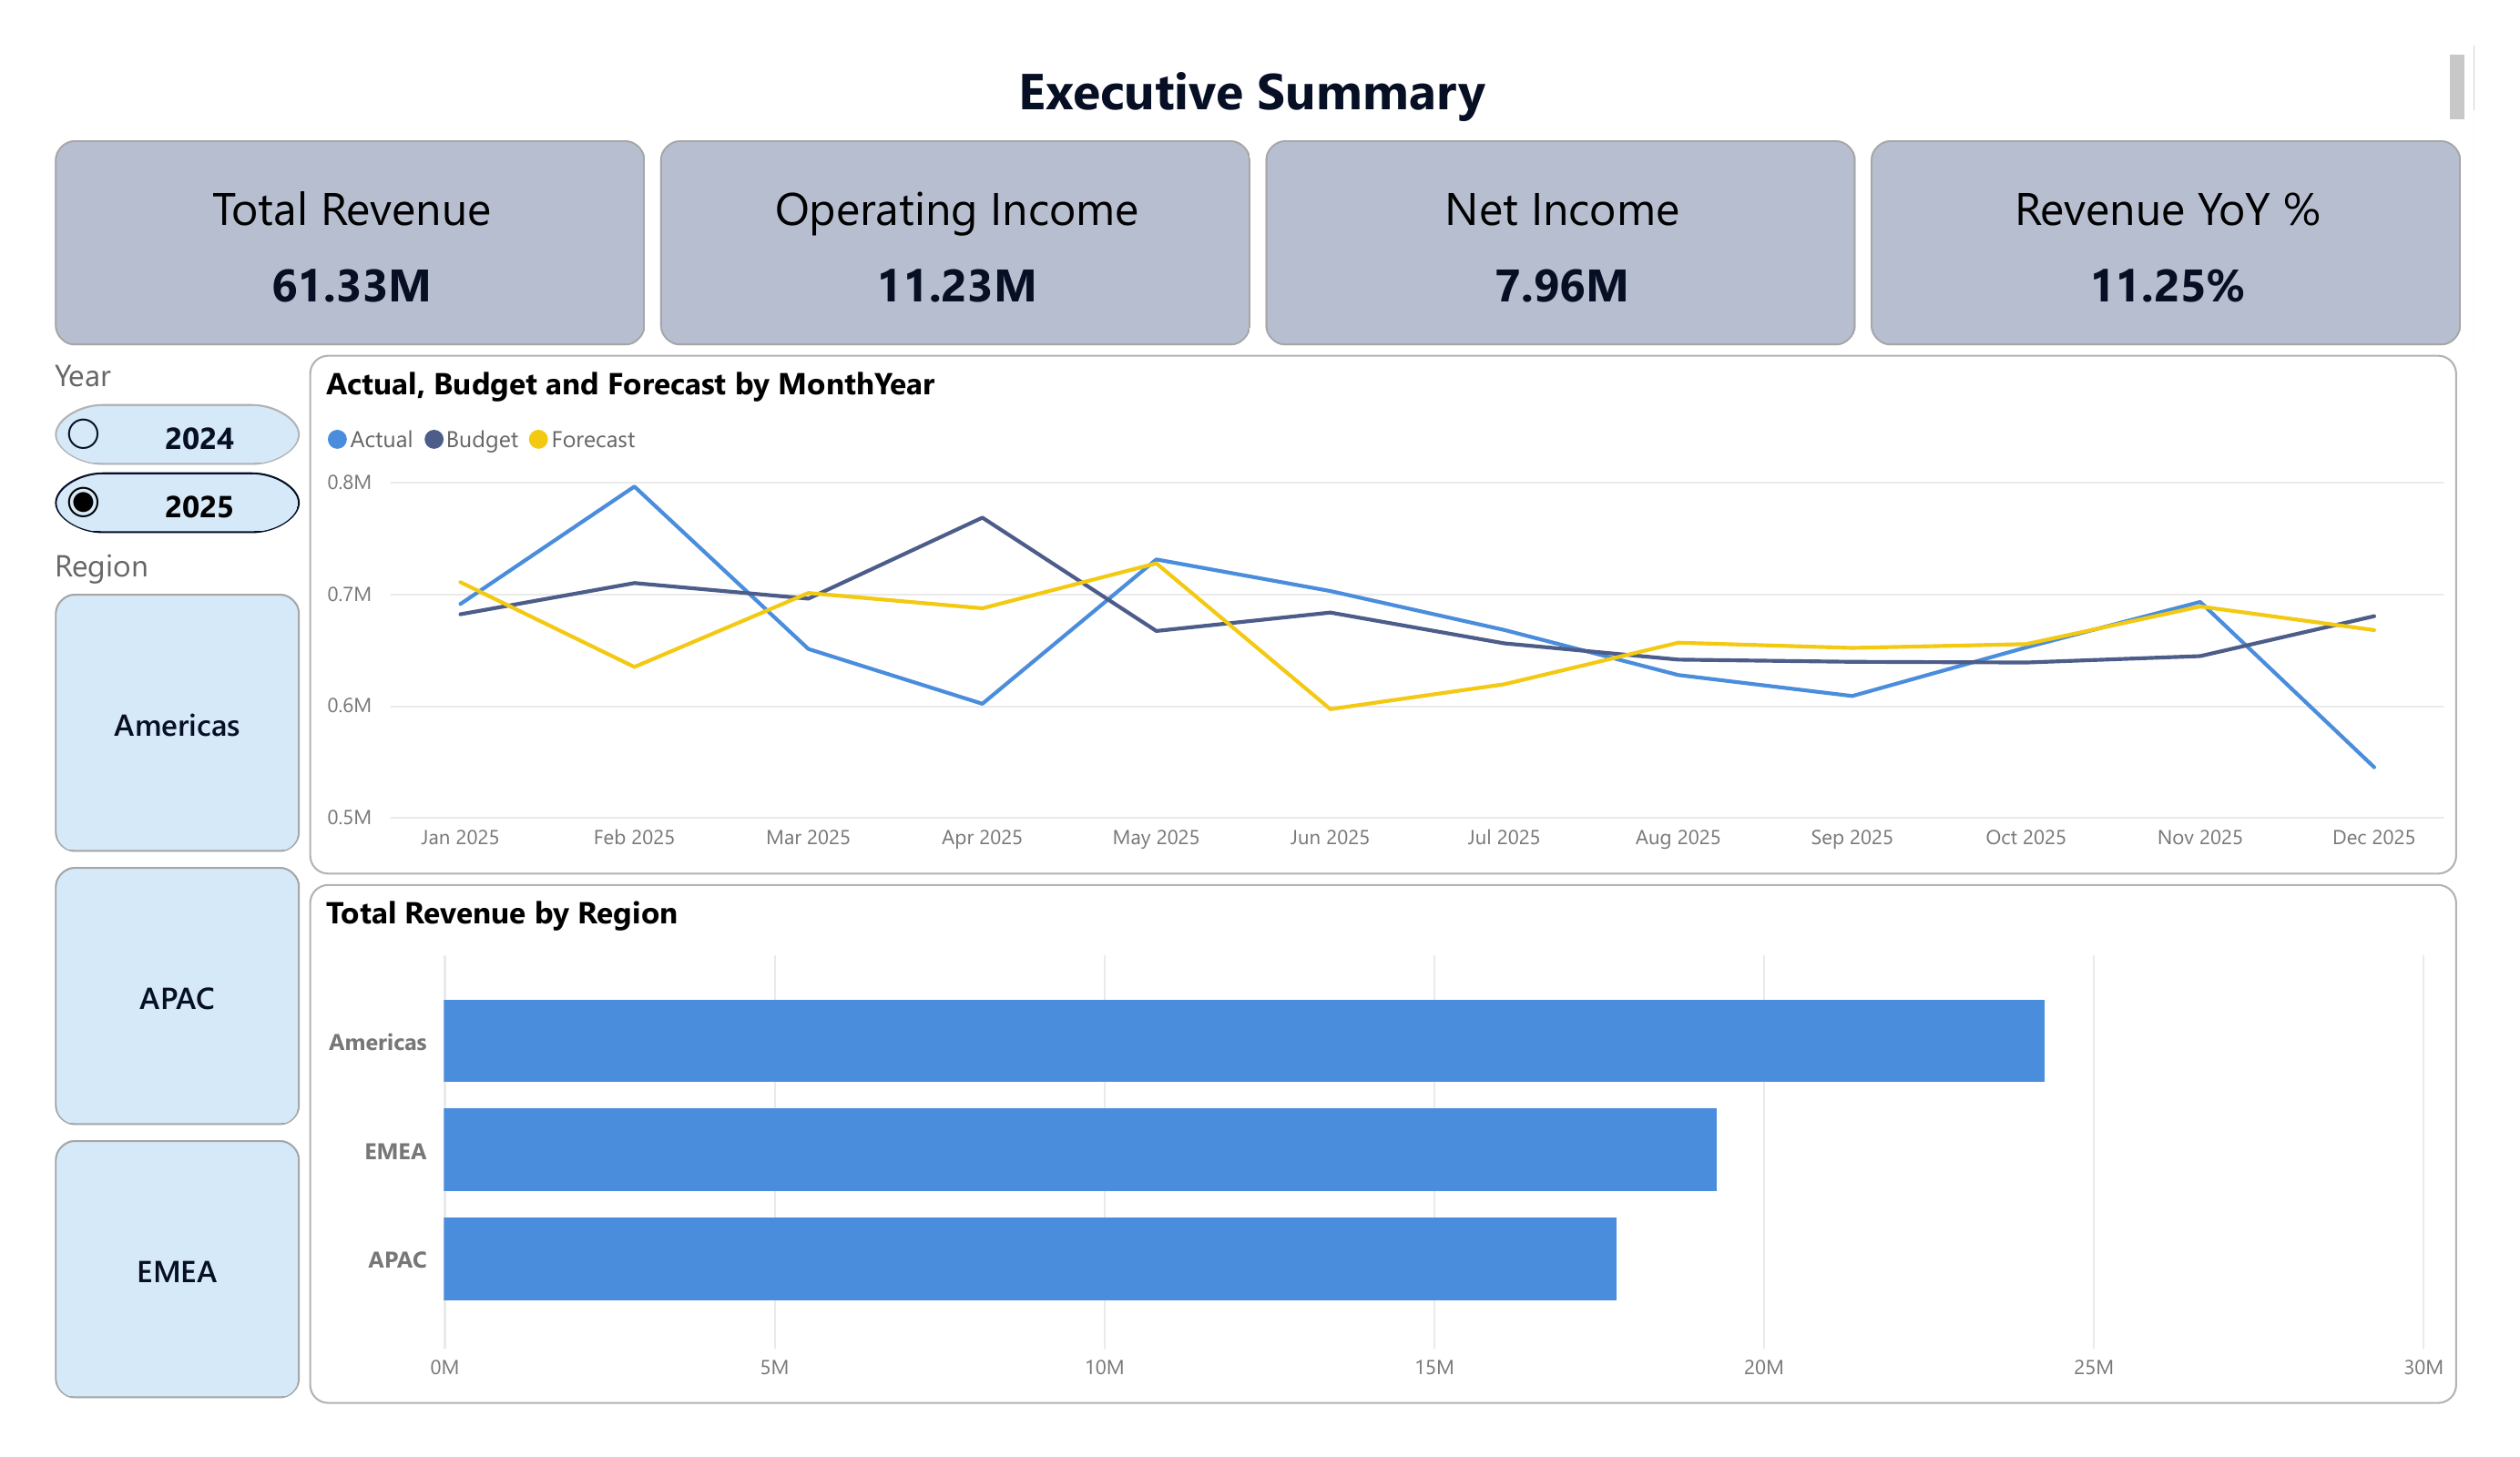

This screenshot's page, from the dashboard's own definition file:
{"tool":"powerbi","page":{"name":"Executive Summary","canvas":[1280,720],"ordinal":0},"visuals":[{"type":"textbox","box":[0,0,1280,45],"z":0},{"type":"cardVisual","fields":{"Data":["FactFinancials.Total Revenue","FactFinancials.Operating Income","FactFinancials.Net Income","FactFinancials.Revenue YoY %"]},"box":[0,45.2,1280,118.1],"z":1000},{"type":"lineChart","fields":{"Category":["DimDateDaily.MonthYear"],"Y":["FactFinancials.Actual","FactFinancials.Budget","FactFinancials.Forecast"]},"box":[139,163.3,1132.1,273.7],"z":2000},{"type":"clusteredBarChart","fields":{"Category":["DimEntity.Entity Hierarchy.Region","DimEntity.Entity Hierarchy.Entity"],"Y":["FactFinancials.Total Revenue"]},"box":[139,442.5,1132.1,273.7],"z":3000},{"type":"advancedSlicerVisual","fields":{"Values":["DimEntity.Region"]},"box":[0,263.2,139.1,457.3],"z":4000},{"type":"listSlicer","fields":{"Values":["DimDateDaily.Year"]},"box":[0,162.9,139.1,100],"z":5000}]}

Visuals, with their boxes on the page's 1280x720 design canvas (x1, y1, x2, y2). These are canvas units, not pixel positions in the 2520x1457 screenshot, which may show the page scaled, cropped or inside an application window:
textbox: BBox(0, 0, 1280, 45)
cardVisual - FactFinancials.Total Revenue x FactFinancials.Operating Income: BBox(0, 45, 1280, 163)
lineChart - DimDateDaily.MonthYear x FactFinancials.Actual: BBox(139, 163, 1271, 437)
clusteredBarChart - DimEntity.Entity Hierarchy.Region x DimEntity.Entity Hierarchy.Entity: BBox(139, 442, 1271, 716)
advancedSlicerVisual - DimEntity.Region: BBox(0, 263, 139, 720)
listSlicer - DimDateDaily.Year: BBox(0, 163, 139, 263)
